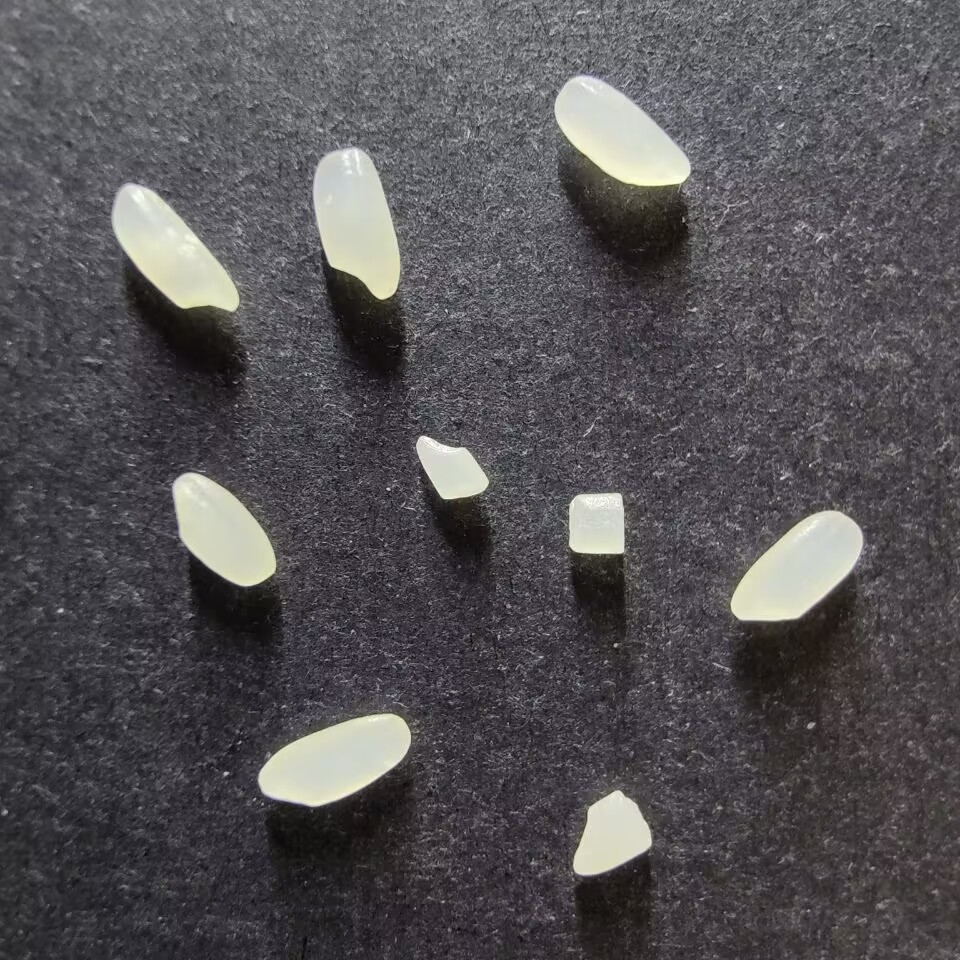broken: (571, 789, 654, 877), (415, 435, 490, 501), (567, 492, 625, 557)
rice: (111, 183, 240, 313), (553, 74, 691, 187), (729, 510, 863, 622), (257, 711, 410, 807), (311, 148, 400, 301), (171, 471, 277, 588)
